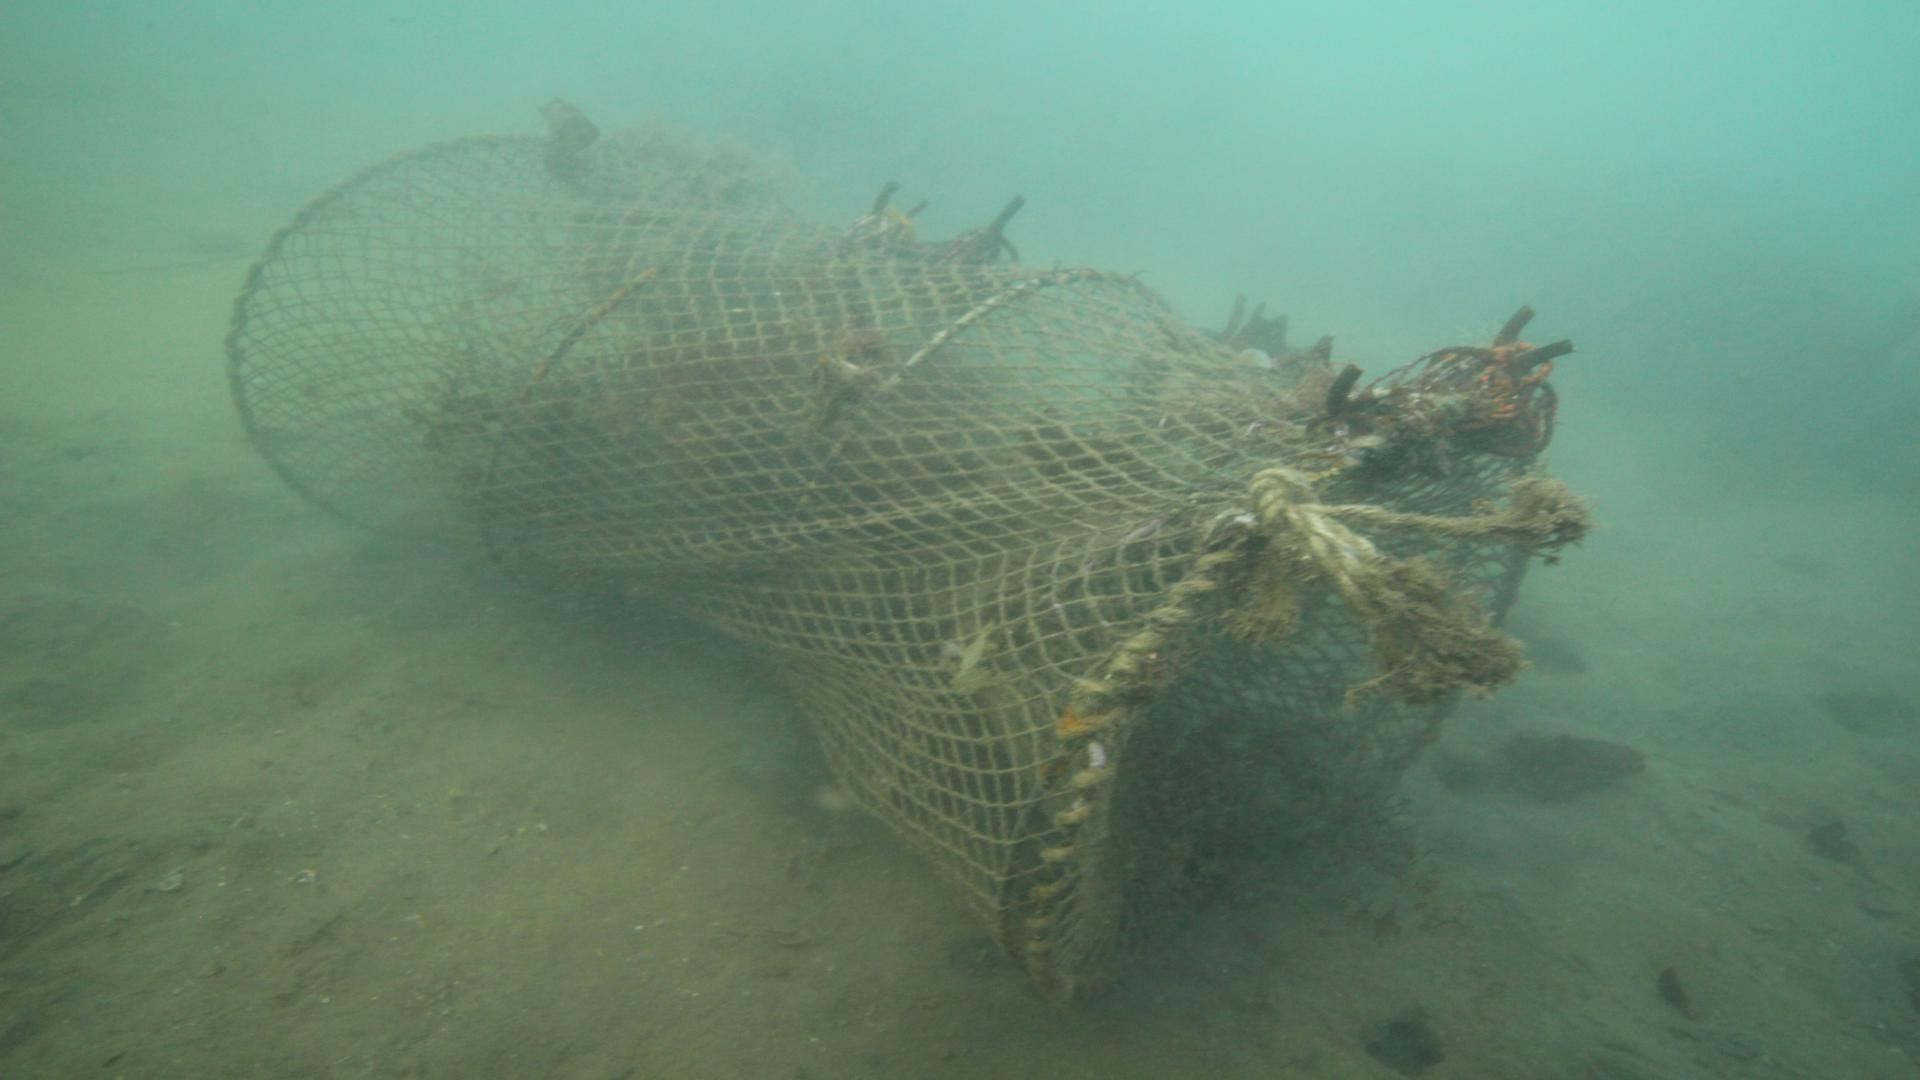spring fish trap: (222, 132, 1547, 1011)
